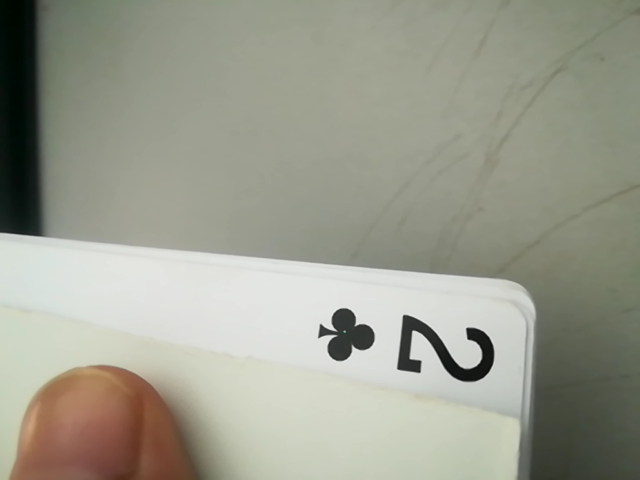mh 2: (293, 281, 514, 418)
